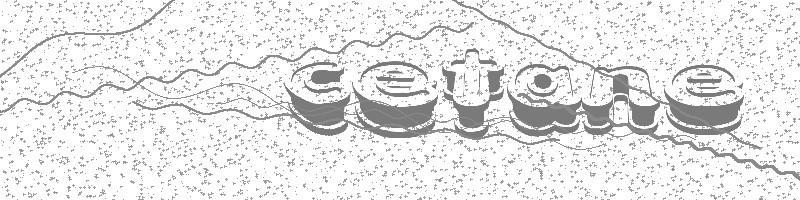a: (507, 62, 581, 136)
c: (284, 60, 350, 136)
e: (352, 61, 437, 138), (662, 62, 745, 136)
n: (582, 65, 661, 135)
t: (441, 48, 505, 140)
